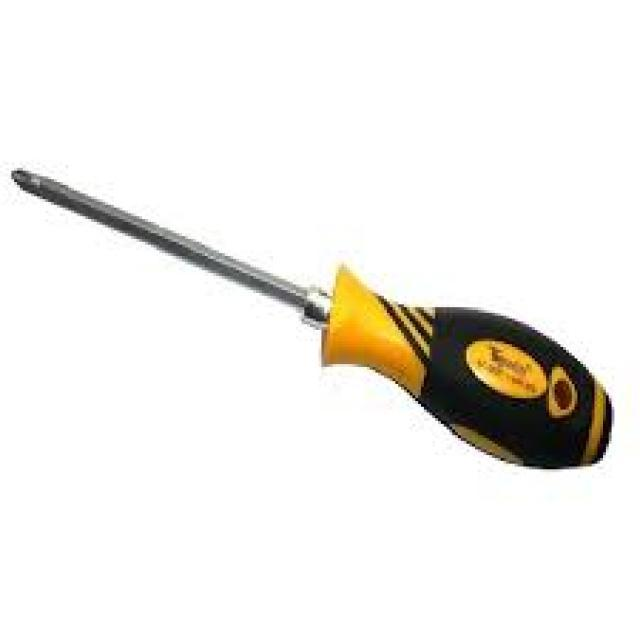screwdriver: (9, 169, 622, 482)
